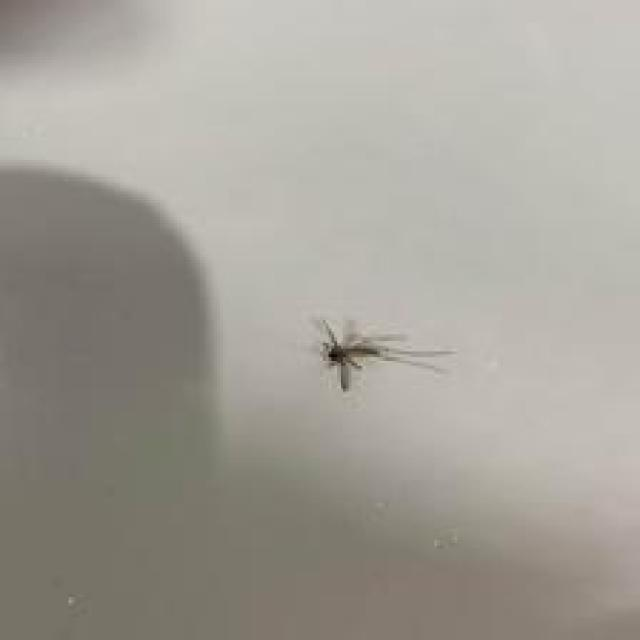Culex: (310, 317, 456, 394)
